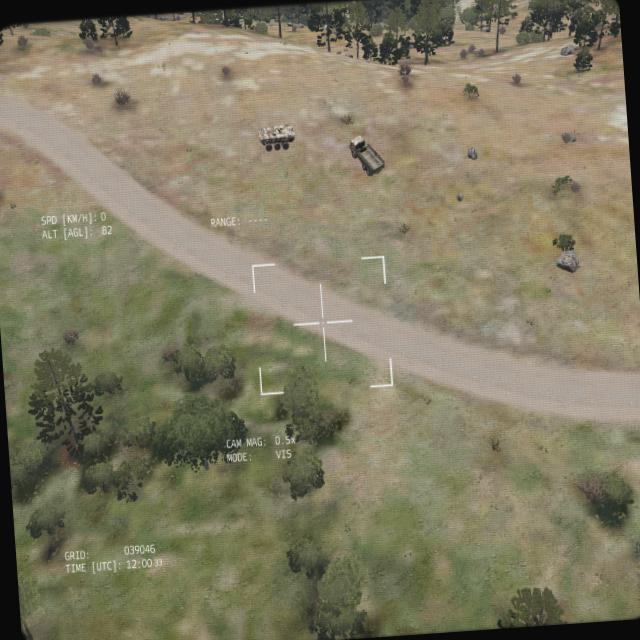apc: (256, 121, 296, 152)
truck: (348, 132, 386, 178)
